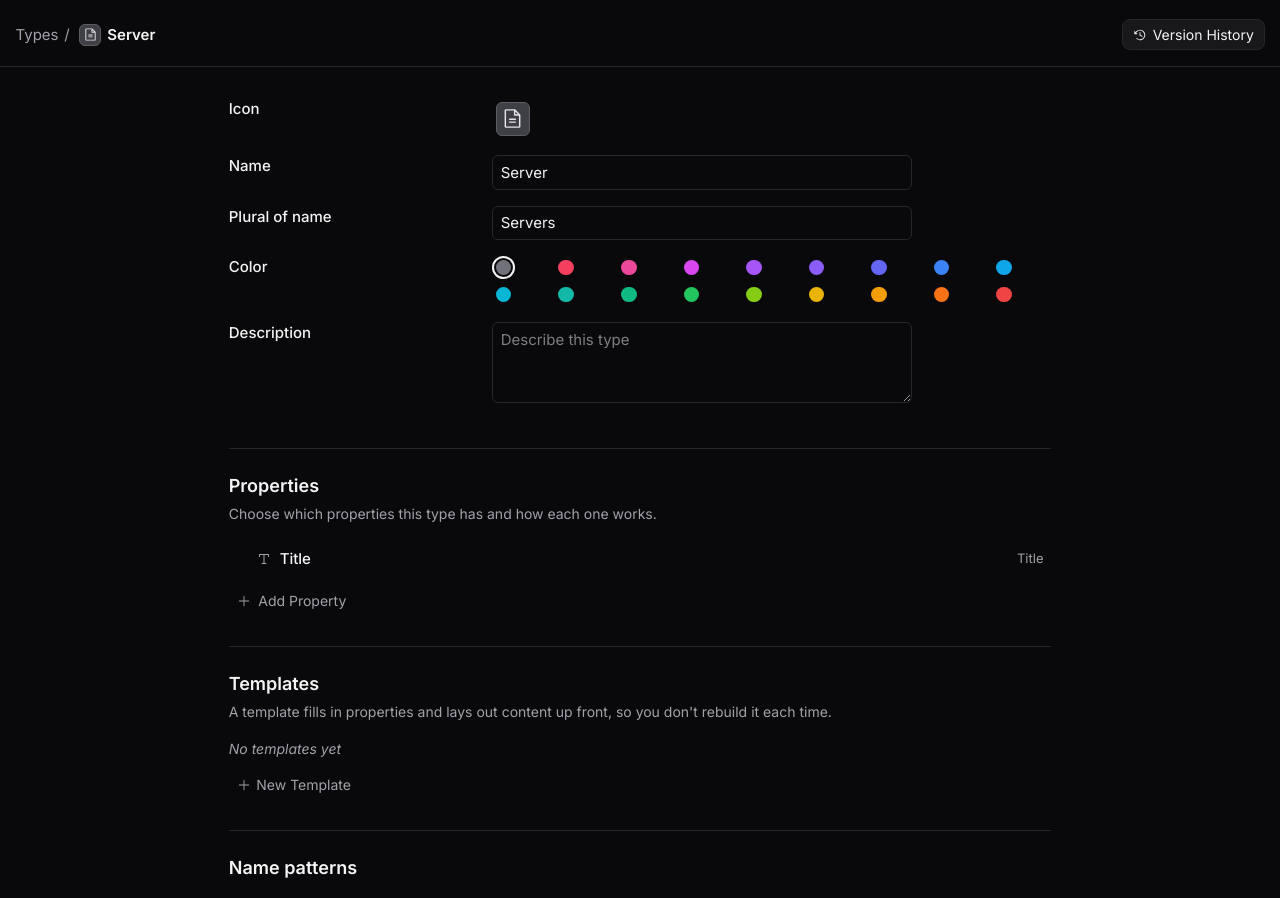
Test: Version History entries for definitions › type settings has Version History in its header
Click the button "Version History": (1193, 35) [1122,19,1264,50]
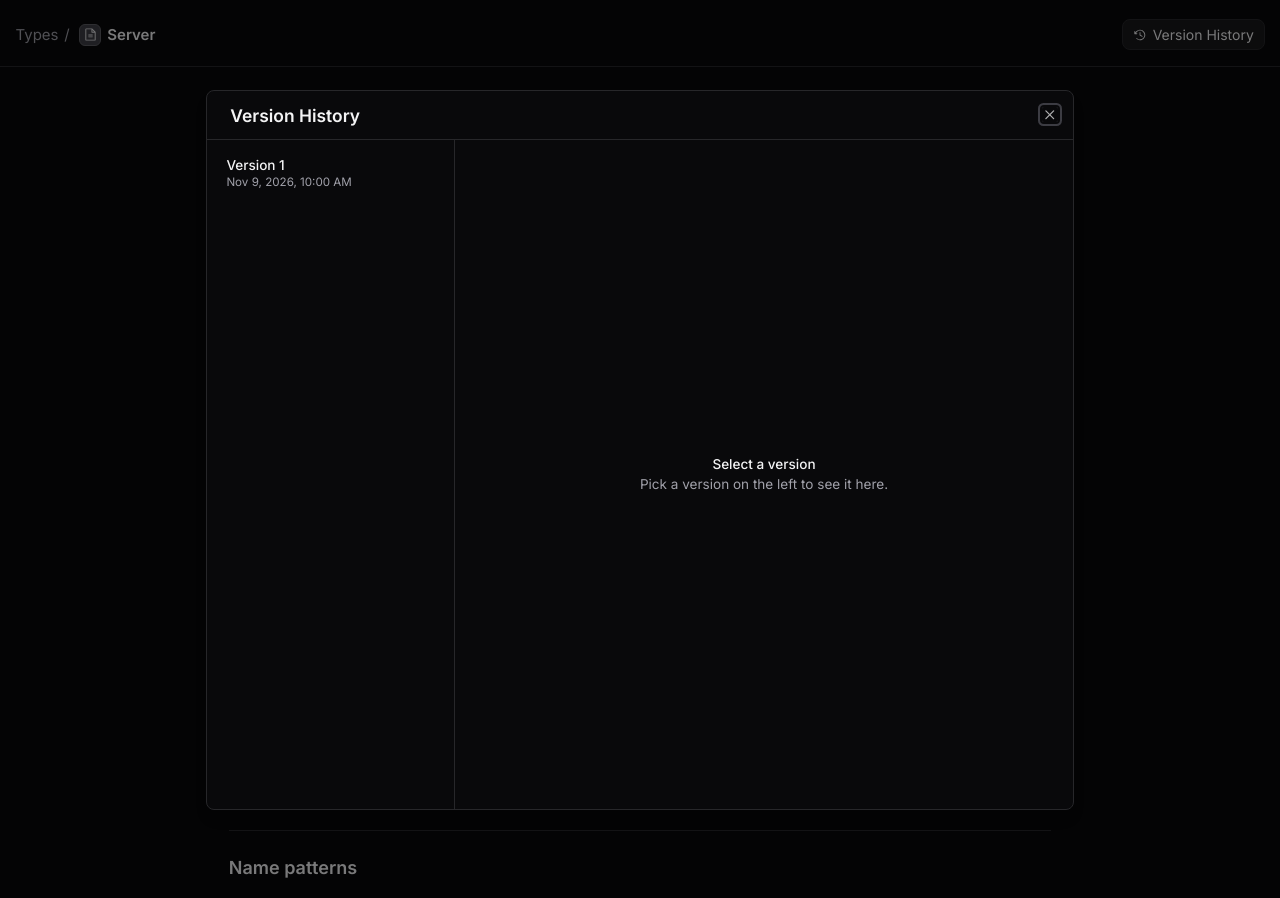
Expected: the heading "Version History" is shown, [230,104,360,126]
Expected: the text "Version 1" is shown, [226,157,285,173]
